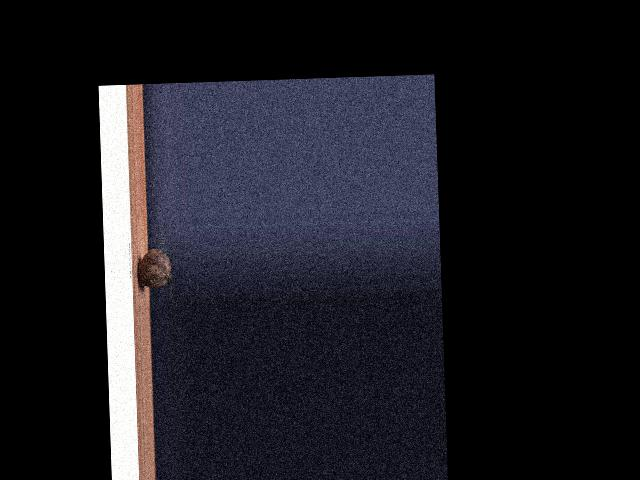beet: (137, 248, 172, 300)
